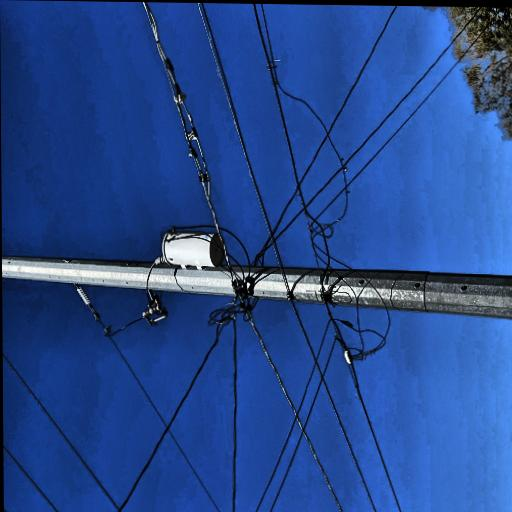pole: (54, 1, 150, 512)
transformer: (125, 294, 161, 367)
